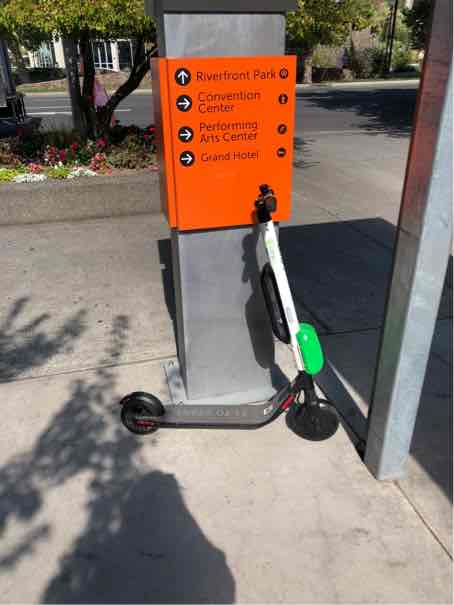scooter: (112, 186, 344, 448)
